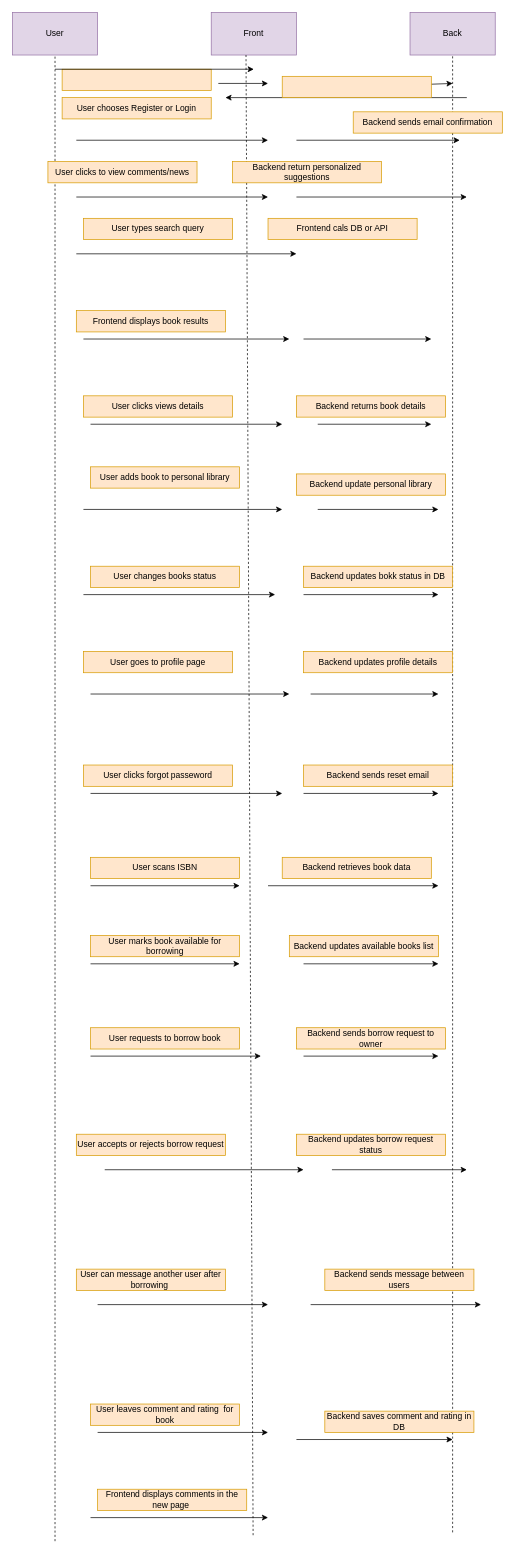
The diagram is 515 pixels wide and 1555 high, and some of its shapes have lost their labels. Here are the shapes that lost their labels. From the top down, the centre of each, then its label:
the point at 136,80: User clicks Get started button
the point at 356,87: Frontend sends request Backend
